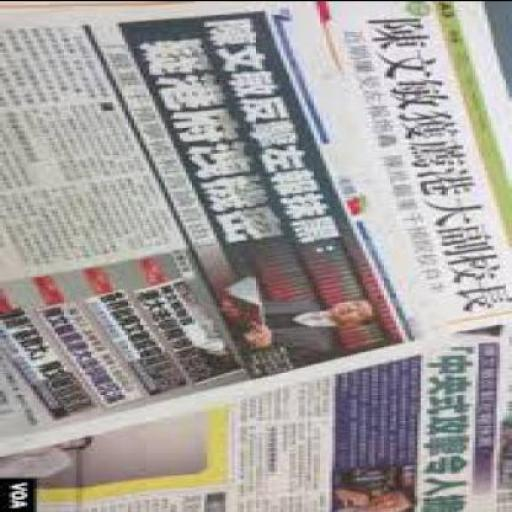paper: (2, 0, 511, 454), (2, 316, 511, 511)
